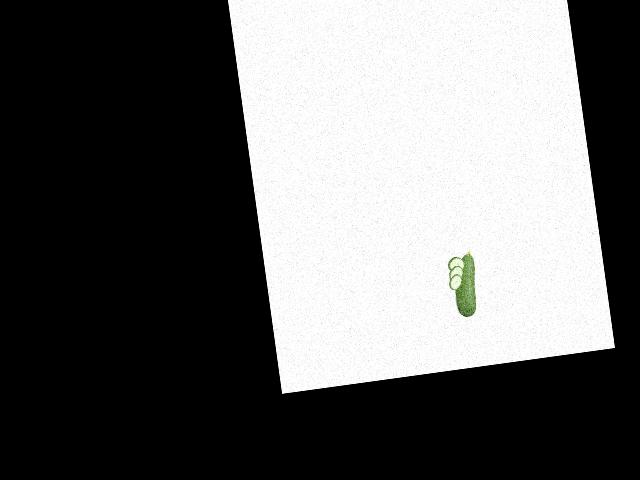cucumber: (449, 250, 481, 319)
